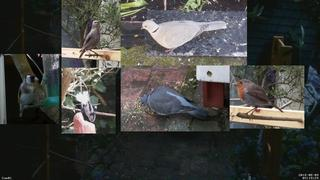collared dove: (141, 20, 227, 54)
goldfinch: (18, 74, 39, 118)
long tailed tit: (84, 88, 96, 123)
robin: (232, 79, 284, 122)
starling: (79, 20, 101, 59)
wood pigeon: (141, 86, 210, 120)
